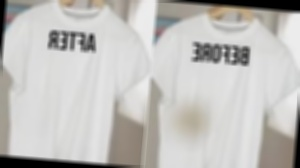oil: (172, 96, 214, 141)
